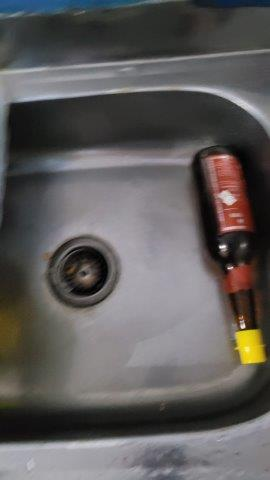botolkaca: (192, 142, 264, 368)
